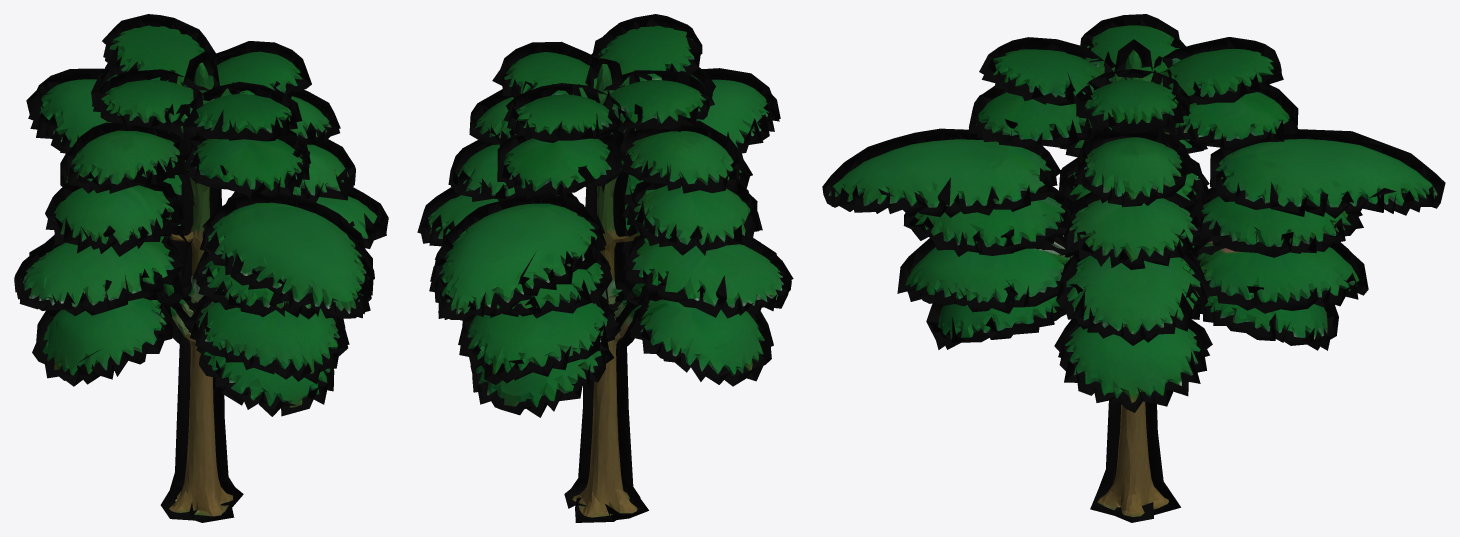
Rendered from Ghibli_Tree_F.glb.
3 views of the same model, side by side, from view 1: azimuth 30°, elevation 25°; view 2: azimuth 150°, elevation 25°; view 3: azimuth 270°, elevation 25° (orthographic). The views are drawn at different scales.
Parts seen in each view (by area): view 1: TreeF, TreeF_OutlineHull; view 2: TreeF, TreeF_OutlineHull; view 3: TreeF, TreeF_OutlineHull.
Part boxes in pixels (bbox=[...]): TreeF: bbox=[23, 25, 377, 516]; TreeF_OutlineHull: bbox=[14, 14, 388, 522]; TreeF: bbox=[428, 25, 783, 517]; TreeF_OutlineHull: bbox=[417, 14, 793, 522]; TreeF: bbox=[828, 25, 1437, 516]; TreeF_OutlineHull: bbox=[822, 14, 1445, 522].
Bounding box in the file's own units: 1.31 × 1.6 × 1.94.
Materials: 2 (1 with a texture image).
